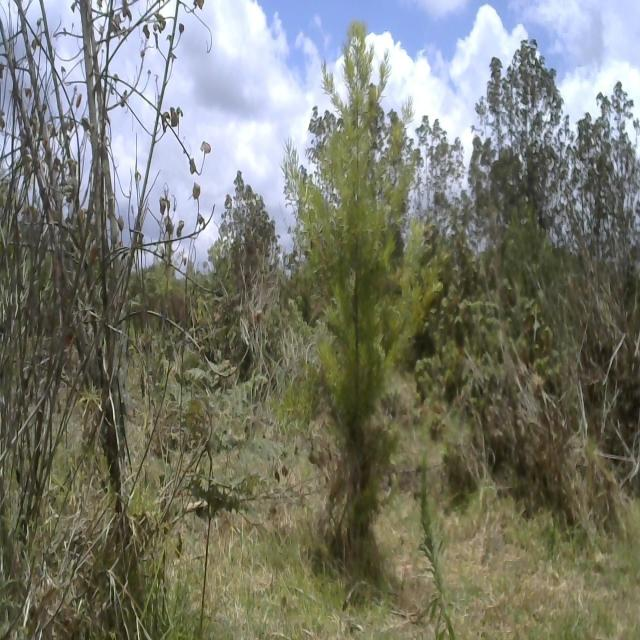Podocarpus falcatus: (278, 25, 439, 453)
other: (0, 0, 204, 506), (467, 36, 572, 357), (212, 166, 277, 333)
